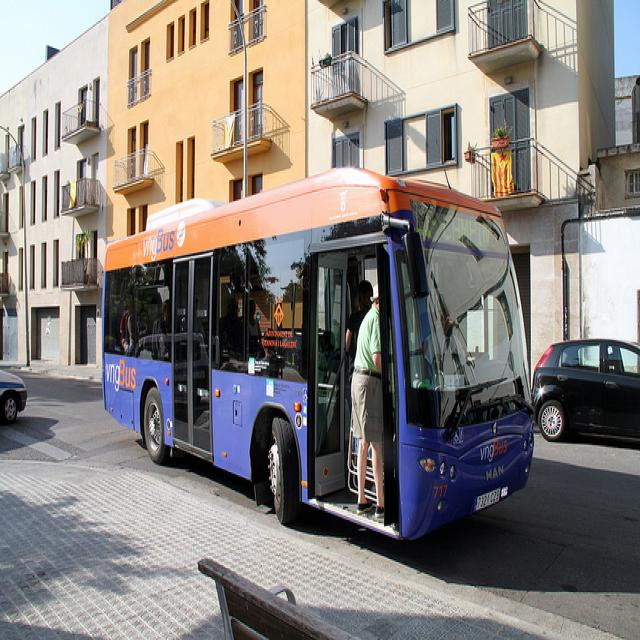Vehicle: (101, 138, 536, 542), (535, 340, 639, 446), (1, 364, 28, 424)
